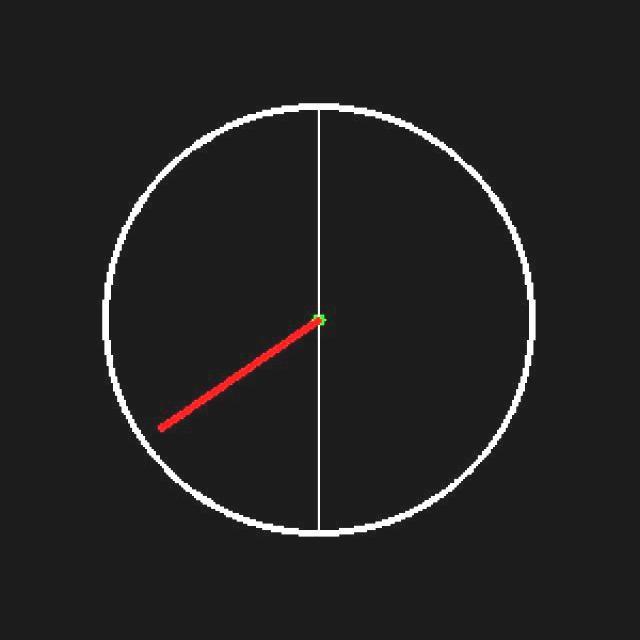Needle_Tip: (144, 405, 196, 444)
Needle_base: (285, 292, 349, 338)
